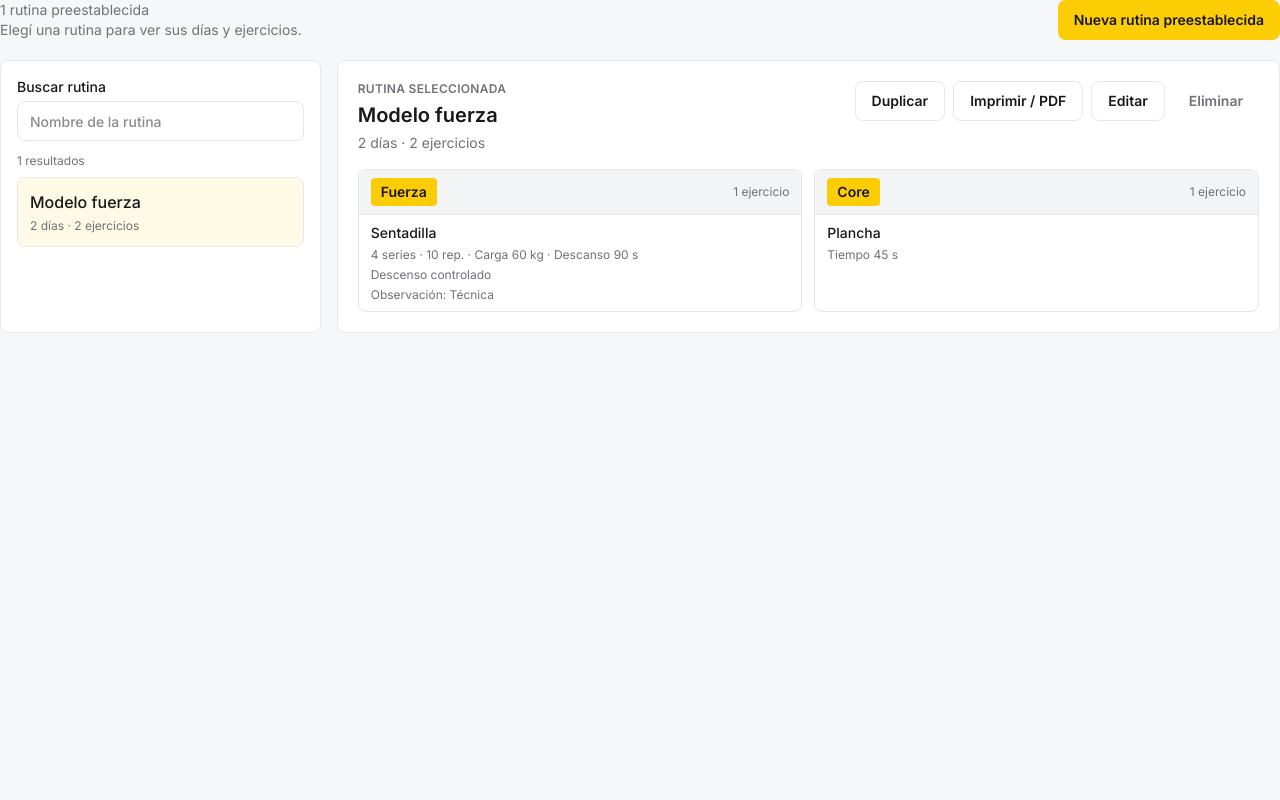
Test case: requires confirmation before deletion and supports cancellation
The image size is (1280, 800).
Expected: the element "Modelo fuerza" is shown, [337, 60, 1279, 333]
What coordinates should you click on to do the following:
click the button "Eliminar"
I would click on:
 (1216, 101)
Its box is [1173, 81, 1259, 121].
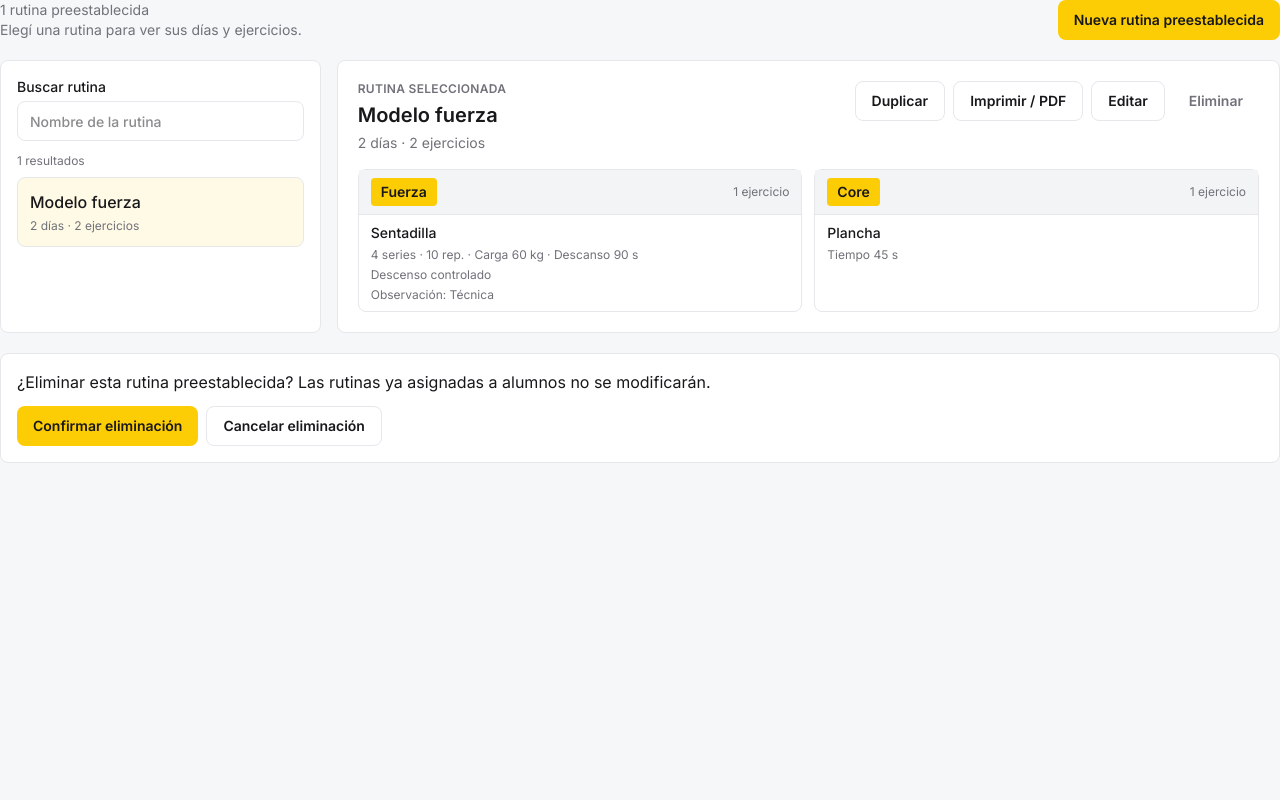
Now the dialog shows "¿Eliminar esta rutina preestablecida? Las rutinas ya asignadas a alumnos no se modificarán.", box [17, 372, 711, 392]
What coordinates should you click on to do the following:
click the button "Cancelar eliminación"
I would click on:
 (294, 426)
Its box is [206, 406, 382, 446].
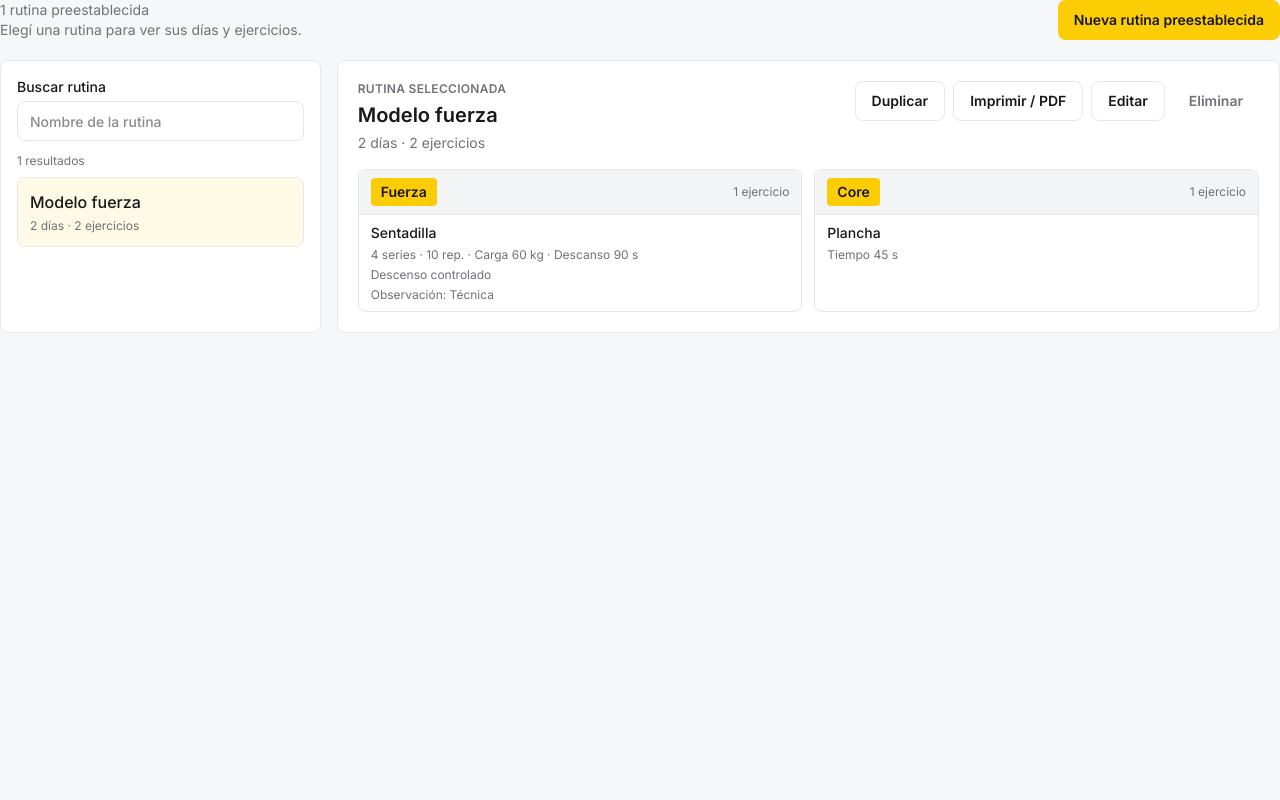
Now the dialog is gone
What coordinates should you click on to do the following:
click the button "Eliminar"
I would click on:
 (1216, 101)
Its box is [1173, 81, 1259, 121].
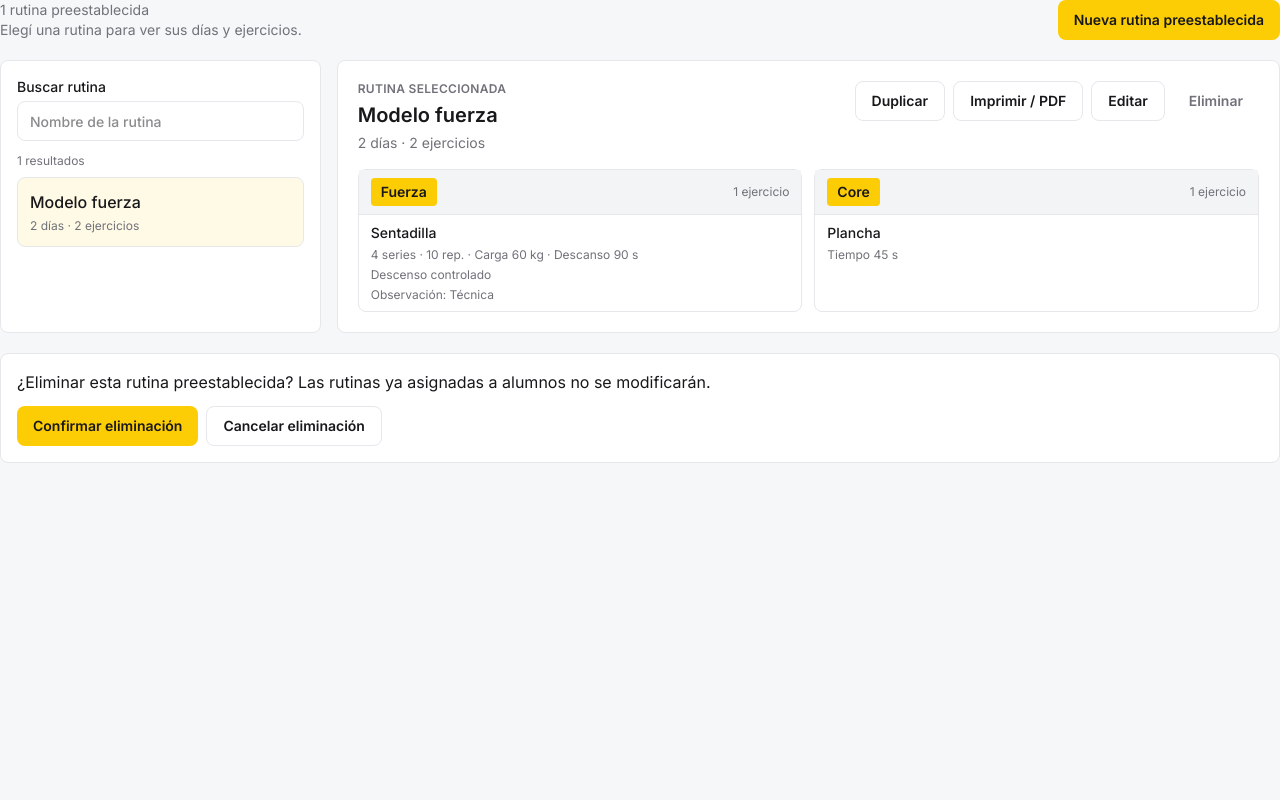
What coordinates should you click on to do the following:
click the button "Confirmar eliminación"
I would click on:
 (108, 426)
Its box is [17, 406, 198, 446].
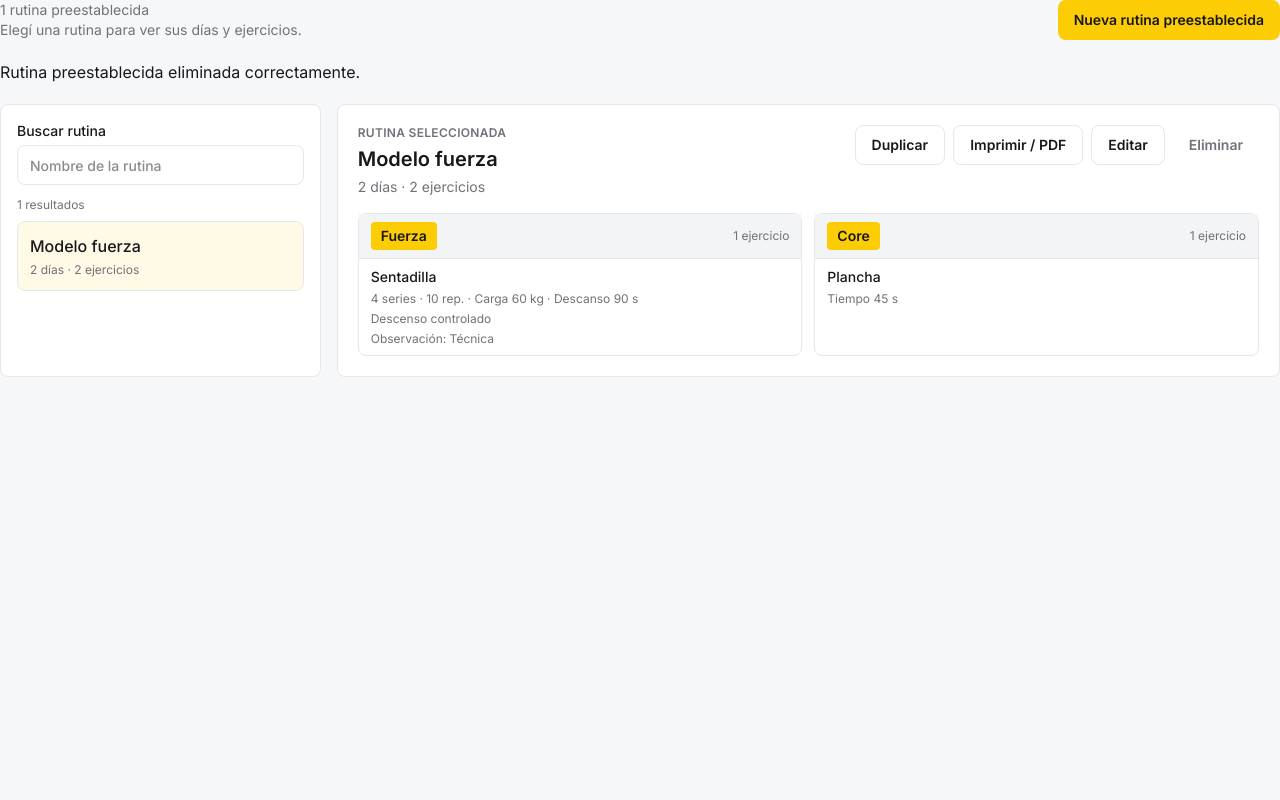
Now the text "Rutina preestablecida eliminada correctamente." is shown, box [0, 62, 360, 82]
